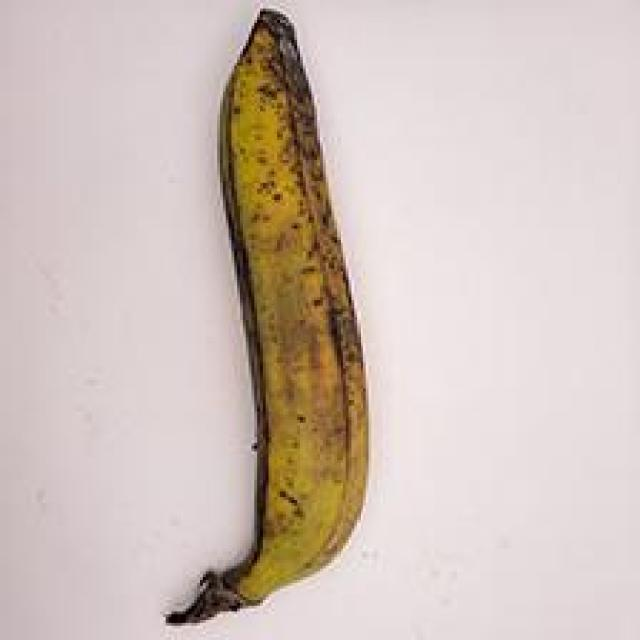Overripe: (140, 7, 413, 629)
